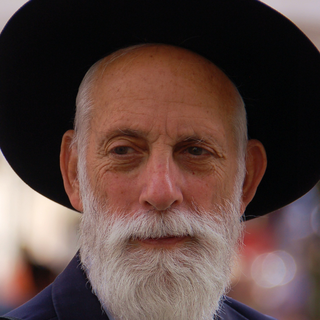eye: (100, 140, 143, 165), (175, 140, 220, 163)
